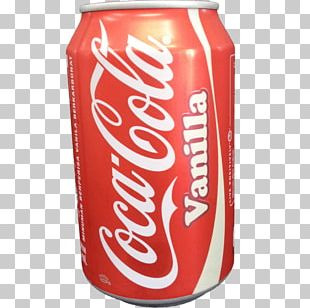coke: (65, 3, 232, 301)
